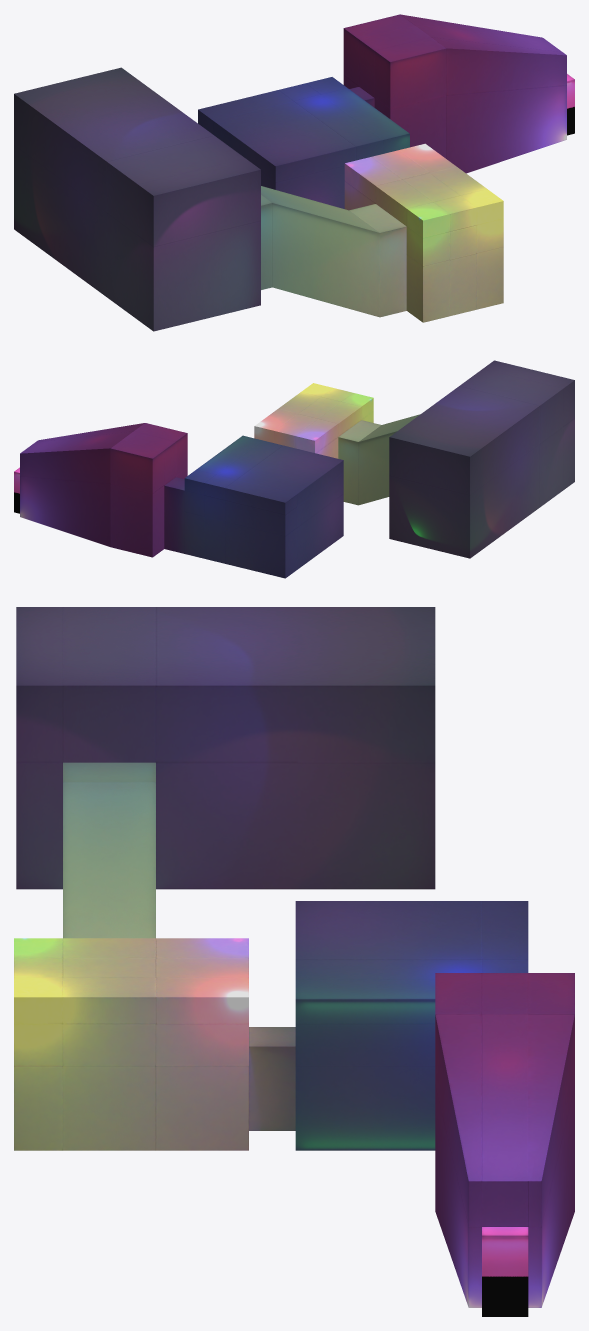
The model's file is dungeon.glb.
The picture shows the model from 3 angles, top to bottom: view 1: azimuth 30°, elevation 25°; view 2: azimuth 150°, elevation 25°; view 3: azimuth 270°, elevation 25°; orthographic projection. The views are drawn at different scales.
Parts seen in each view (by area): view 1: Cube.005, Cube.001, Cube.002, Cube, Cube.003; view 2: Cube.005, Cube, Cube.001, Cube.002, Cube.003, Cube.008; view 3: Cube.005, Cube.002, Cube.001, Cube, Cube.003, Cube.006.
Boxes of the visible parts, left/top/right/bottom form: Cube.005: left=14, top=67, right=260, bottom=331; Cube.001: left=343, top=14, right=574, bottom=173; Cube.002: left=344, top=143, right=503, bottom=322; Cube: left=198, top=77, right=409, bottom=208; Cube.003: left=261, top=186, right=406, bottom=317; Cube.005: left=389, top=360, right=574, bottom=558; Cube: left=184, top=435, right=343, bottom=578; Cube.001: left=14, top=423, right=187, bottom=557; Cube.002: left=254, top=383, right=373, bottom=458; Cube.003: left=338, top=414, right=420, bottom=505; Cube.008: left=164, top=477, right=184, bottom=553; Cube.005: left=16, top=607, right=435, bottom=889; Cube.002: left=14, top=938, right=248, bottom=1150; Cube.001: left=435, top=973, right=574, bottom=1316; Cube: left=295, top=901, right=528, bottom=1150; Cube.003: left=63, top=762, right=155, bottom=938; Cube.006: left=249, top=1027, right=295, bottom=1130.
Bounding box in the file's own units: 21.45 × 6.82 × 12.05.
Materials: 1 (1 with a texture image).
